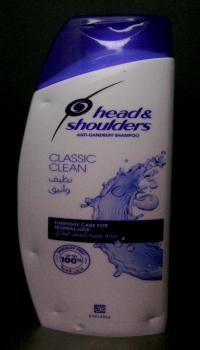dent_unacceptable: (140, 309, 167, 326), (69, 319, 91, 335), (23, 247, 47, 261), (36, 97, 58, 109), (50, 307, 70, 319)
